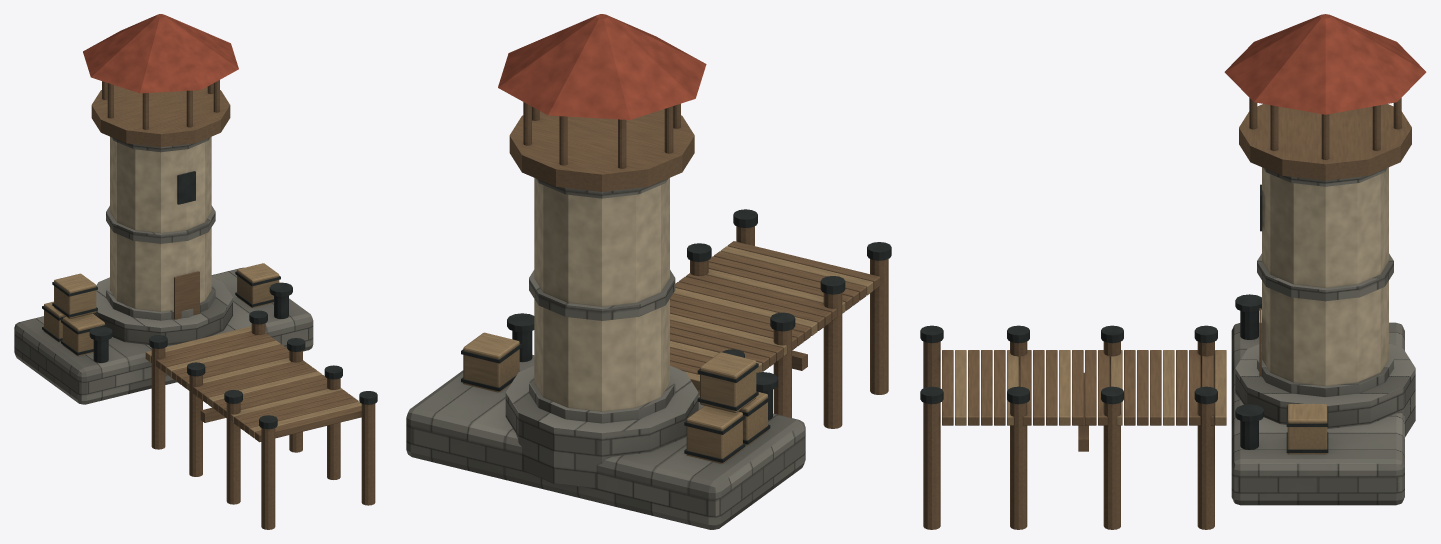
File: port-watchtower.glb
3 renders of one model, left to right at view 1: azimuth 30°, elevation 25°; view 2: azimuth 150°, elevation 25°; view 3: azimuth 270°, elevation 25°, orthographic. The views are drawn at different scales.
Parts seen in each view (by area): view 1: Port watchtower; view 2: Port watchtower; view 3: Port watchtower.
Boxes of the visible parts, bbox=[...] form: Port watchtower: bbox=[14, 14, 377, 529]; Port watchtower: bbox=[406, 14, 891, 529]; Port watchtower: bbox=[920, 14, 1426, 529].
Bounding box in the file's own units: 4.7 × 7.33 × 7.01.
Materials: 1 (1 with a texture image).
